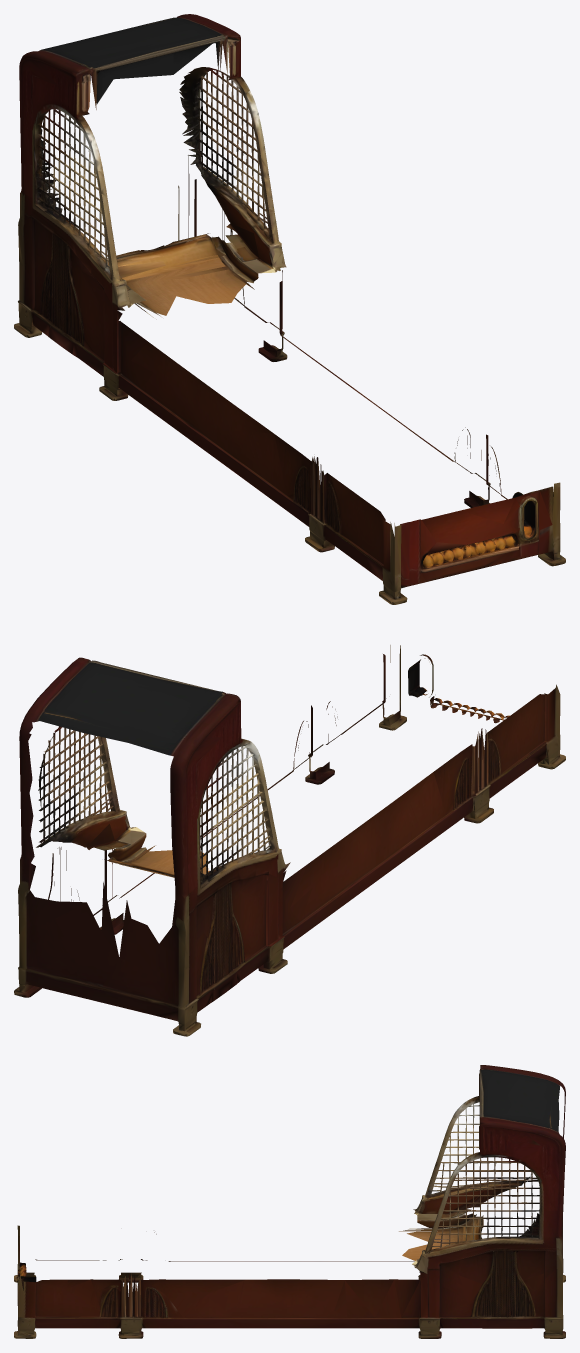
File: skeeCabinet.glb
3 views of the same model, one above another, from view 1: azimuth 30°, elevation 25°; view 2: azimuth 150°, elevation 25°; view 3: azimuth 270°, elevation 25° (orthographic). The views are drawn at different scales.
Visible parts, largest first — view 1: SkeeCabinetBody; view 2: SkeeCabinetBody; view 3: SkeeCabinetBody.
Boxes of the visible parts, left/top/right/bottom form: SkeeCabinetBody: left=14, top=14, right=565, bottom=604; SkeeCabinetBody: left=14, top=645, right=565, bottom=1036; SkeeCabinetBody: left=14, top=1065, right=565, bottom=1338.
Size of the model in its own units: 1.23 by 1.98 by 4.6.
Materials: 1 (1 with a texture image).
